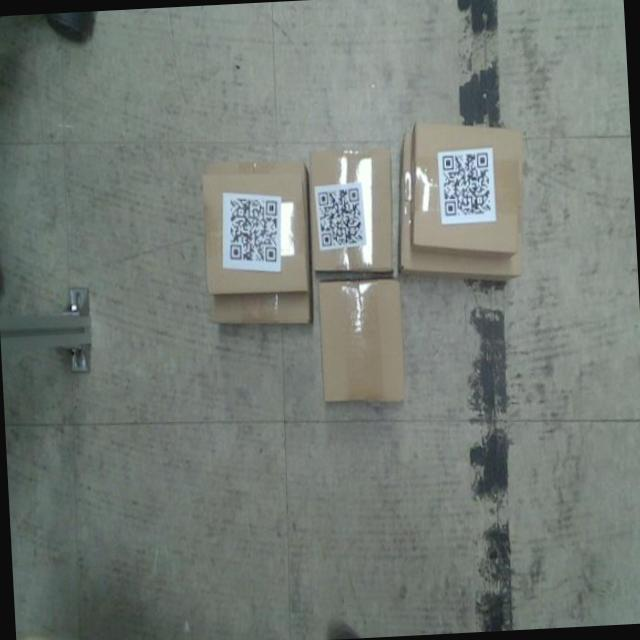box: (406, 112, 526, 262), (197, 169, 311, 298), (310, 273, 411, 412), (304, 143, 400, 277)
